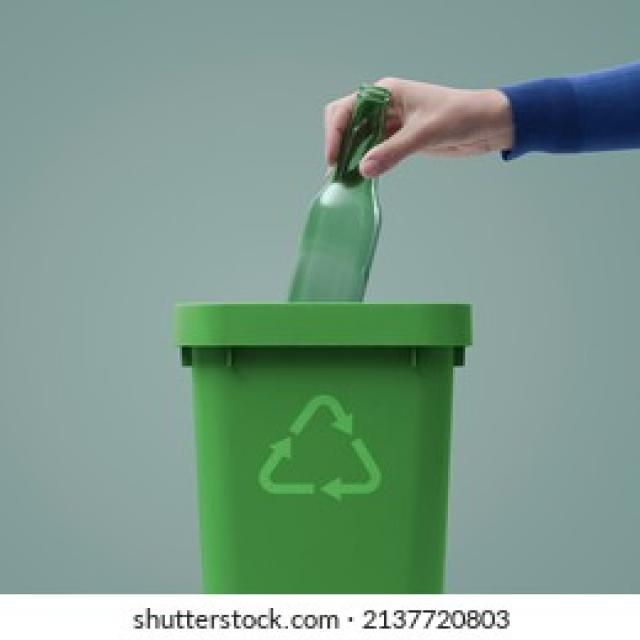glass: (281, 89, 396, 304)
